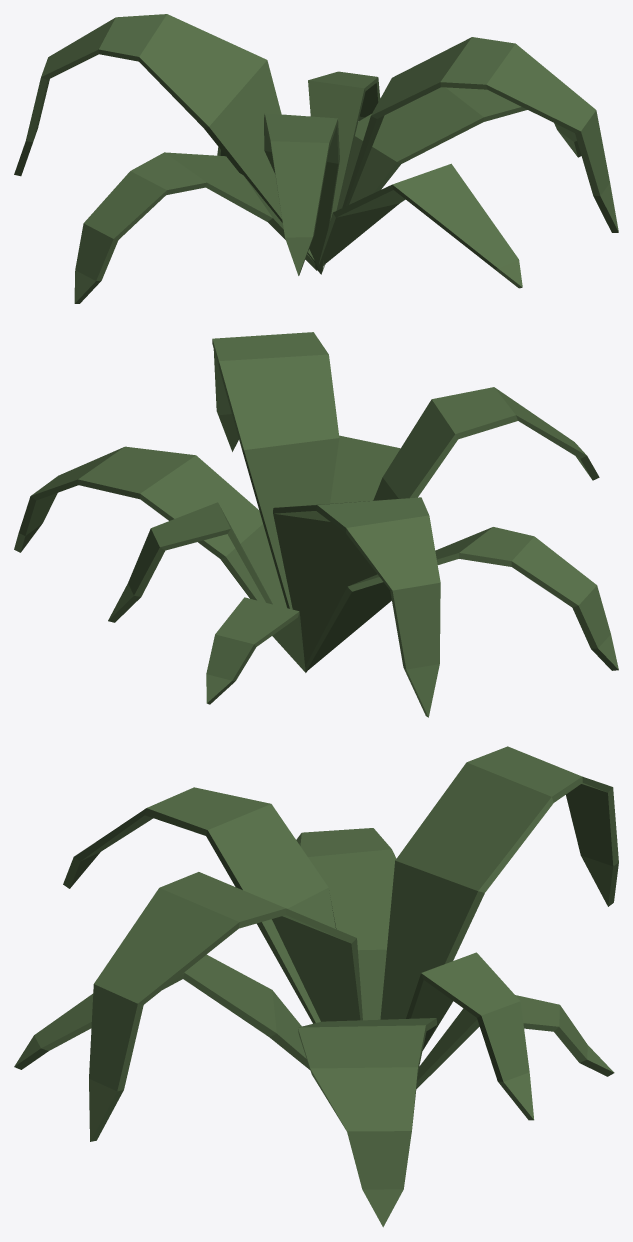
The model's file is Plant_1.glb.
3 views of the same model, one above another, from view 1: azimuth 30°, elevation 25°; view 2: azimuth 150°, elevation 25°; view 3: azimuth 270°, elevation 25° (orthographic). The views are drawn at different scales.
Visible parts, largest first — view 1: Plant_1; view 2: Plant_1; view 3: Plant_1.
Part boxes in pixels (x1,y1,x2,y2): Plant_1: (14,14,618,303); Plant_1: (14,332,618,717); Plant_1: (14,746,618,1227).
Size of the model in its own units: 1.2 by 0.5073 by 0.9456.
